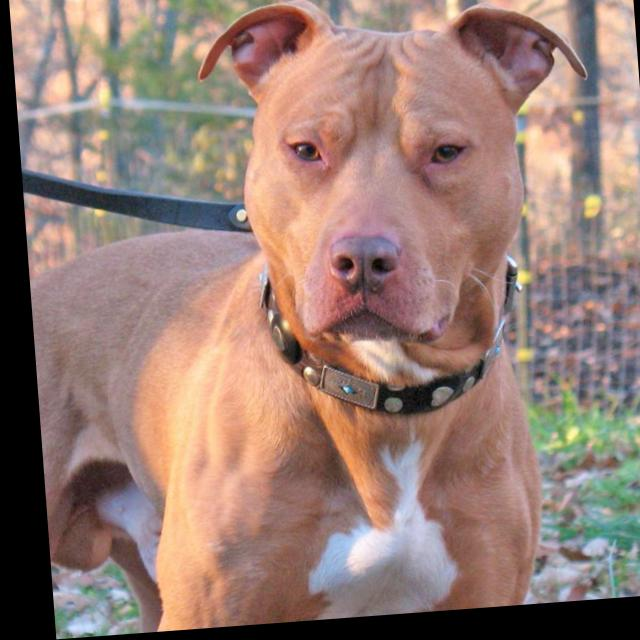am_pit_bull_terrier: (12, 1, 619, 640)
